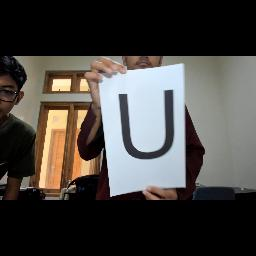u: (111, 86, 181, 164)
